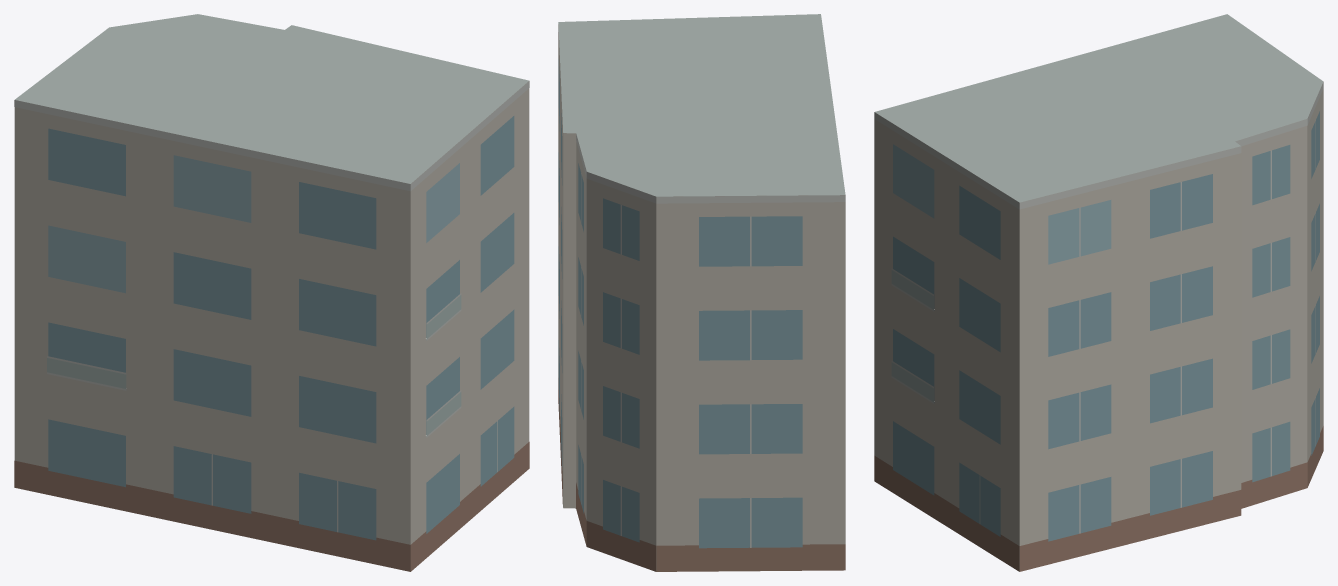
The model's file is survey-upis-32805094.glb.
3 views of the same model, side by side, from view 1: azimuth 30°, elevation 25°; view 2: azimuth 150°, elevation 25°; view 3: azimuth 270°, elevation 25° (orthographic). The views are drawn at different scales.
Visible parts, largest first — view 1: survey-upis-32805094.tmp; view 2: survey-upis-32805094.tmp; view 3: survey-upis-32805094.tmp.
Part boxes in pixels (<box>): survey-upis-32805094.tmp: <box>14,14,529,571</box>; survey-upis-32805094.tmp: <box>558,14,845,571</box>; survey-upis-32805094.tmp: <box>874,14,1323,571</box>.
Bounding box in the file's own units: 14.36 × 13.1 × 14.45.
